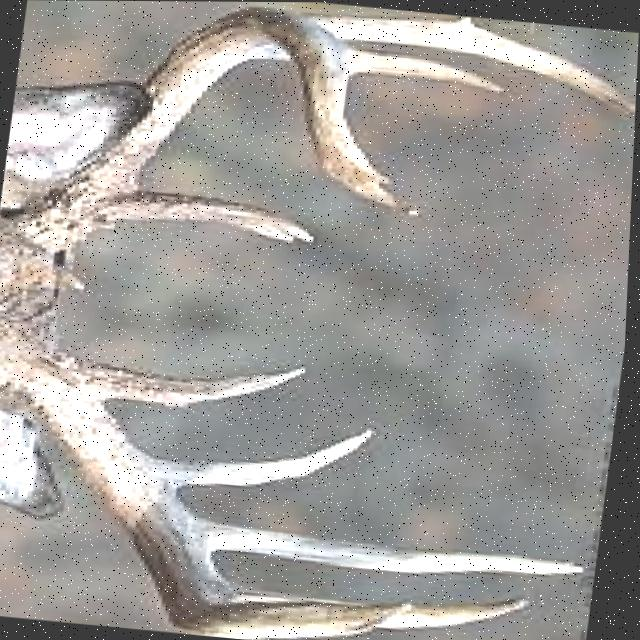L-F: (18, 5, 399, 249)
L-G1: (108, 186, 319, 243)
L-G3: (309, 11, 637, 118)
R-F: (0, 329, 418, 640)
R-G1: (64, 354, 309, 406)
R-G2: (155, 425, 381, 485)
R-G3: (214, 518, 590, 575)
